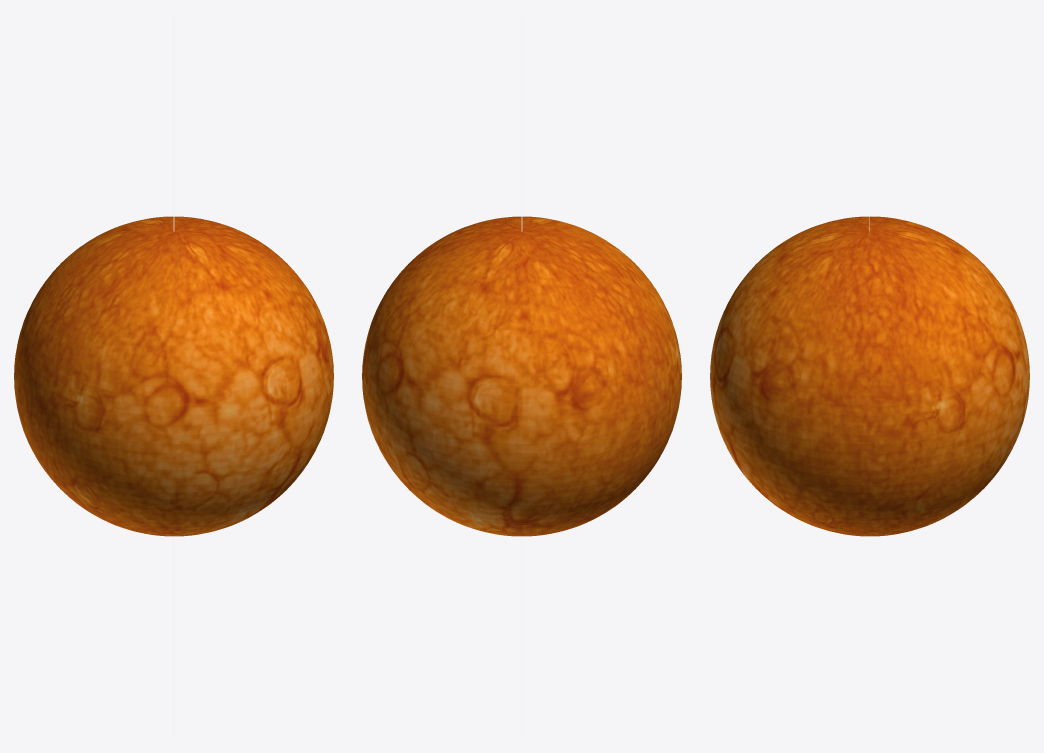
Rendered from mago.glb.
The picture shows the model from 3 angles, left to right: view 1: azimuth 30°, elevation 25°; view 2: azimuth 150°, elevation 25°; view 3: azimuth 270°, elevation 25°; orthographic projection.
Parts seen in each view (by area): view 1: Sphere, Axis_Rod; view 2: Sphere, Axis_Rod; view 3: Sphere.
Boxes of the visible parts, bbox=[...] form: Sphere: bbox=[14, 216, 333, 536]; Axis_Rod: bbox=[173, 14, 174, 738]; Sphere: bbox=[362, 216, 681, 536]; Axis_Rod: bbox=[521, 14, 522, 738]; Sphere: bbox=[710, 216, 1029, 536].
Size of the model in its own units: 2 by 5 by 2.
Materials: 2 (1 with a texture image).
